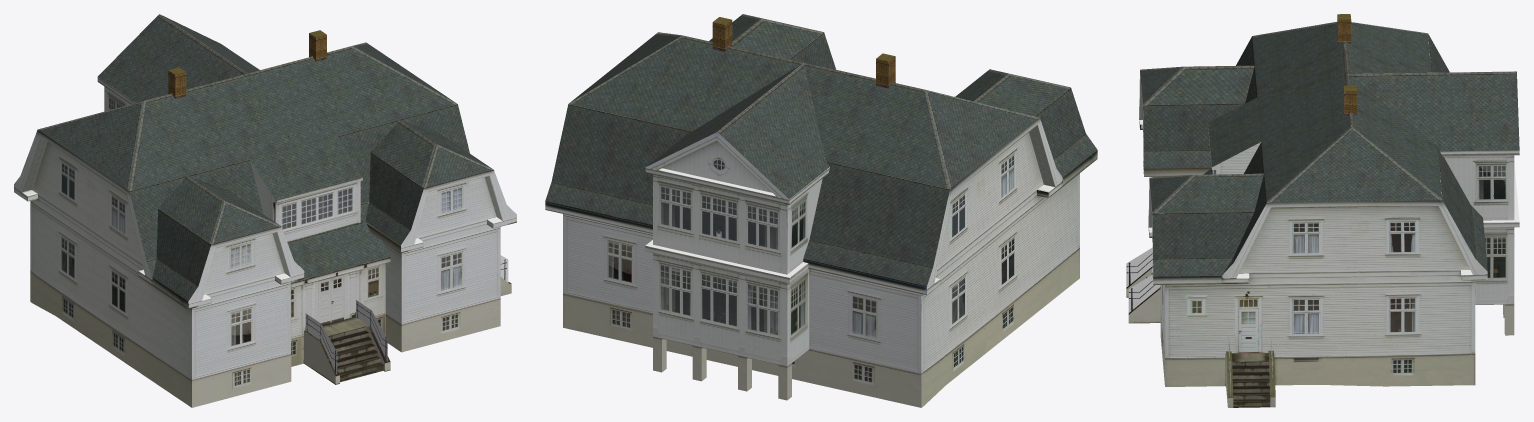
File: House08.dae
3 renders of one model, left to right at view 1: azimuth 30°, elevation 25°; view 2: azimuth 150°, elevation 25°; view 3: azimuth 270°, elevation 25°, orthographic. The views are drawn at different scales.
Visible parts, largest first — view 1: HOFDI_01 (×17); view 2: HOFDI_01 (×19); view 3: HOFDI_01 (×17).
Part boxes in pixels (box(x1,y1,x2,y2)): HOFDI_01 (×17): box(14, 14, 516, 407); HOFDI_01 (×19): box(545, 14, 1097, 407); HOFDI_01 (×17): box(1126, 15, 1519, 407).
Bounding box in the file's own units: 845 × 747 × 537.
26 materials, 25 textured.
